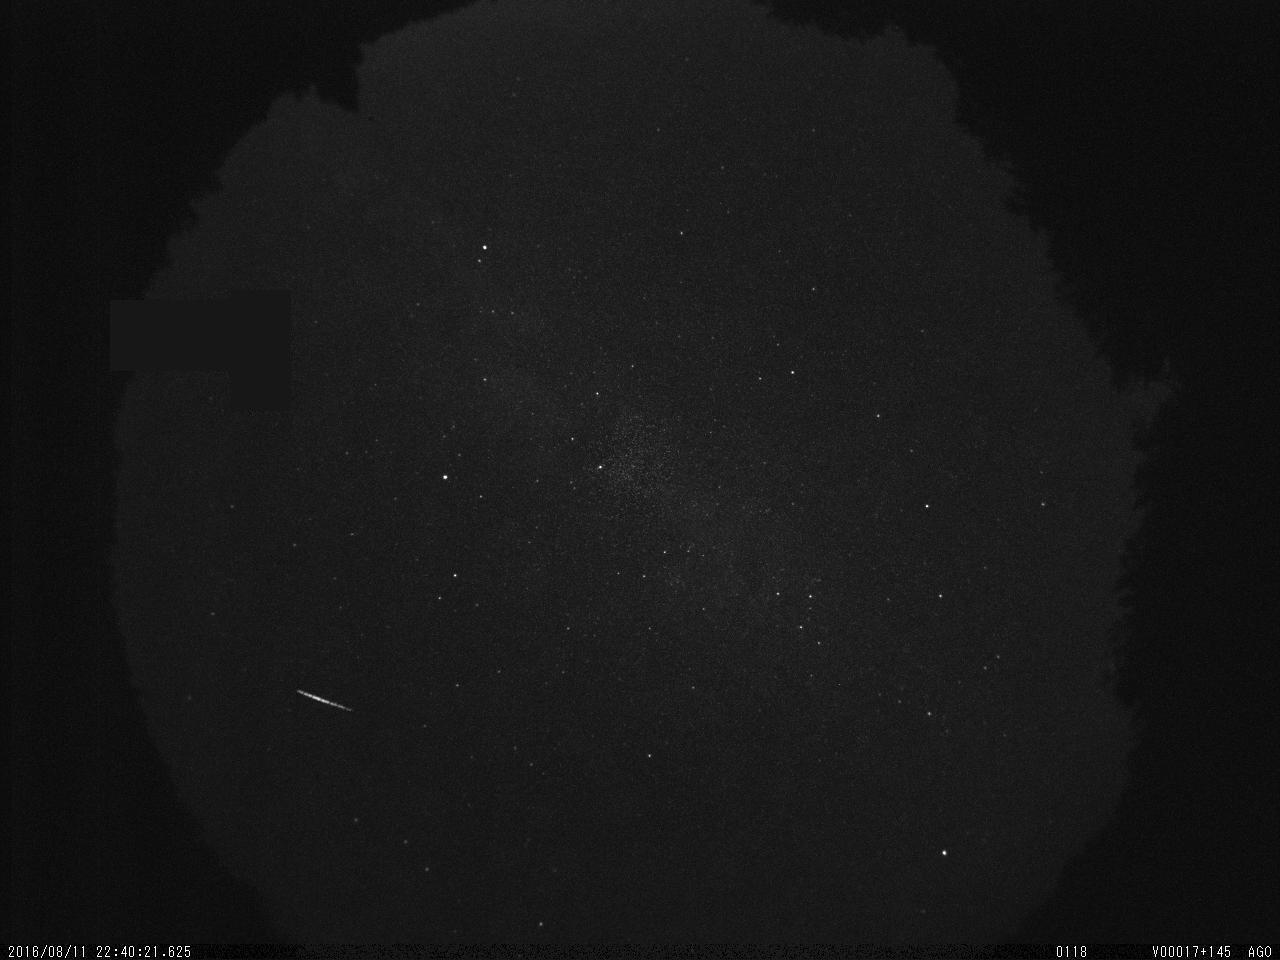meteor: (277, 675, 371, 727)
